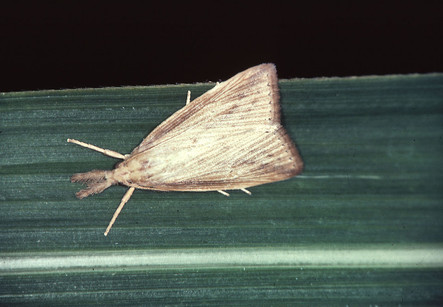Crambidae: (67, 59, 303, 240)
